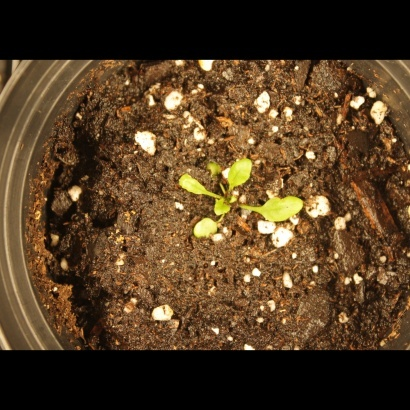leaf: (256, 193, 311, 228), (228, 150, 254, 192), (189, 214, 221, 248), (173, 169, 207, 201), (201, 154, 227, 183), (210, 197, 233, 220)
